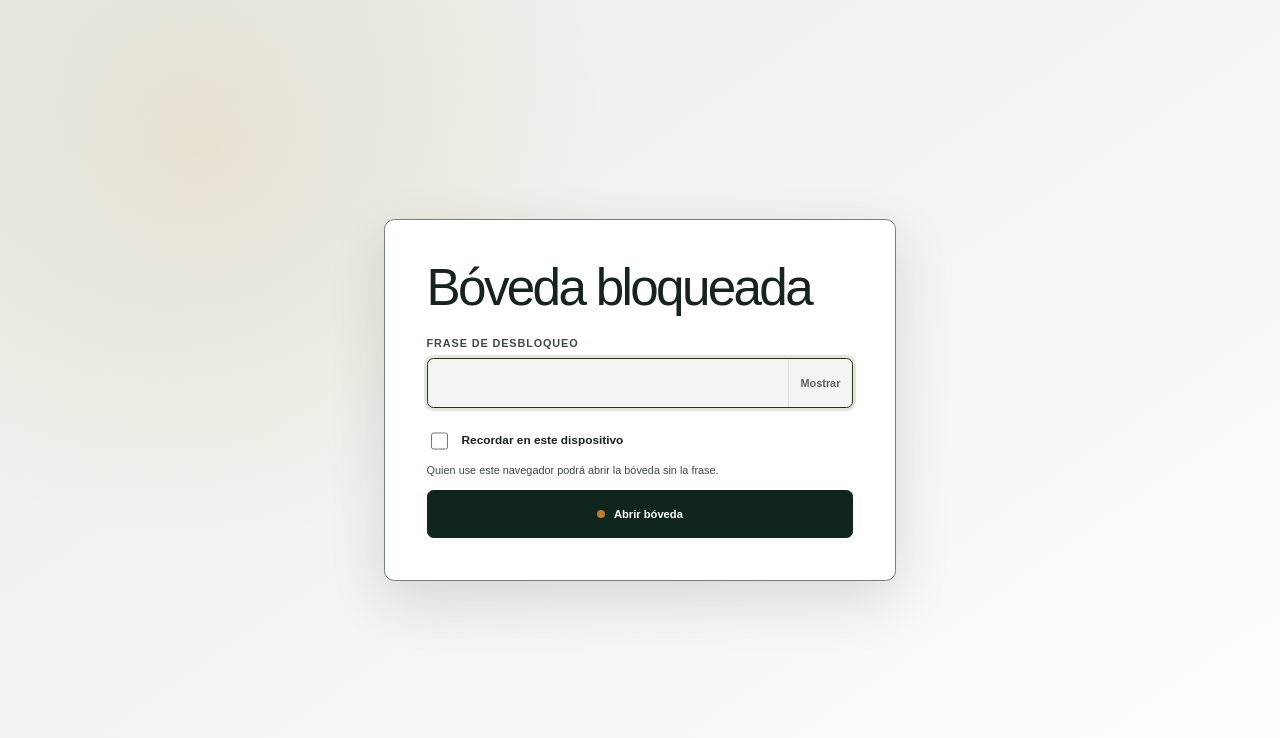
Test: App integration › uses the same error for a wrong phrase and allows a clean retry
Step 1. Type "this phrase is definitely wrong" into the password field labelled "Frase de desbloqueo" → point(608, 383), box [428,359,788,407]
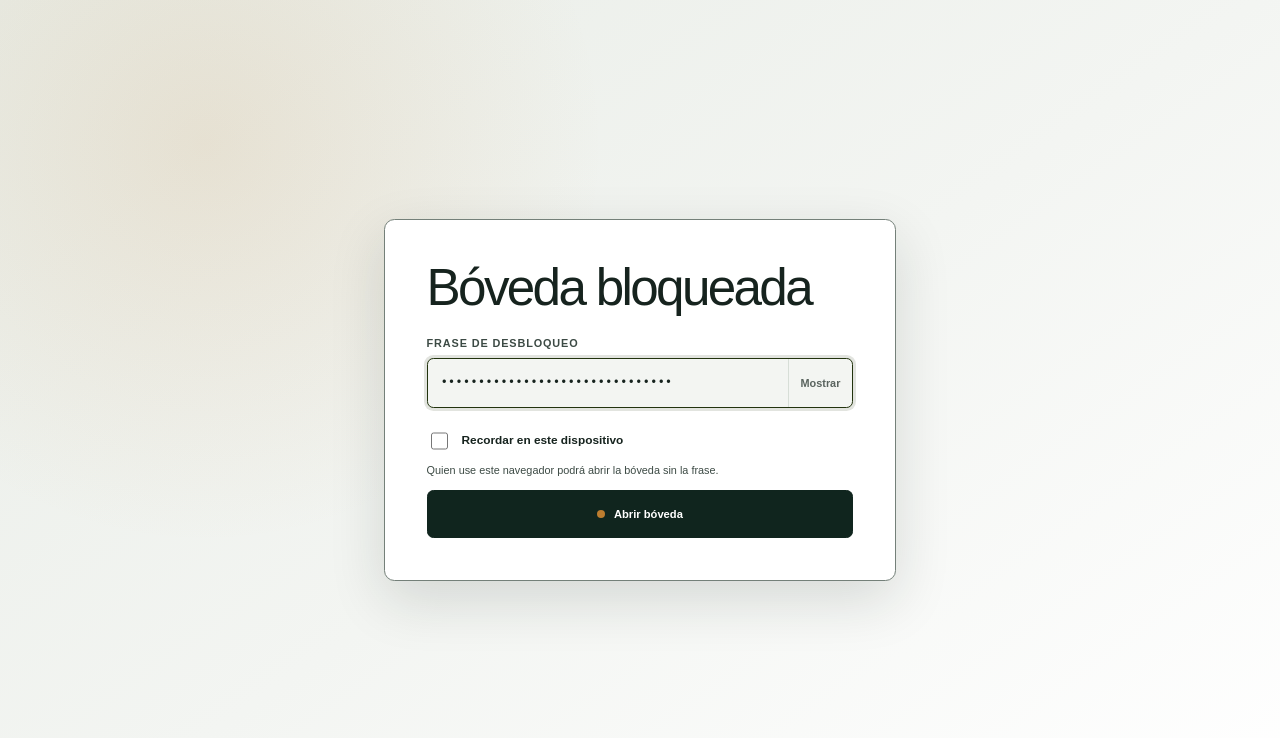
Step 2. Click the button "Abrir bóveda" → point(640, 514), box [427,490,853,538]
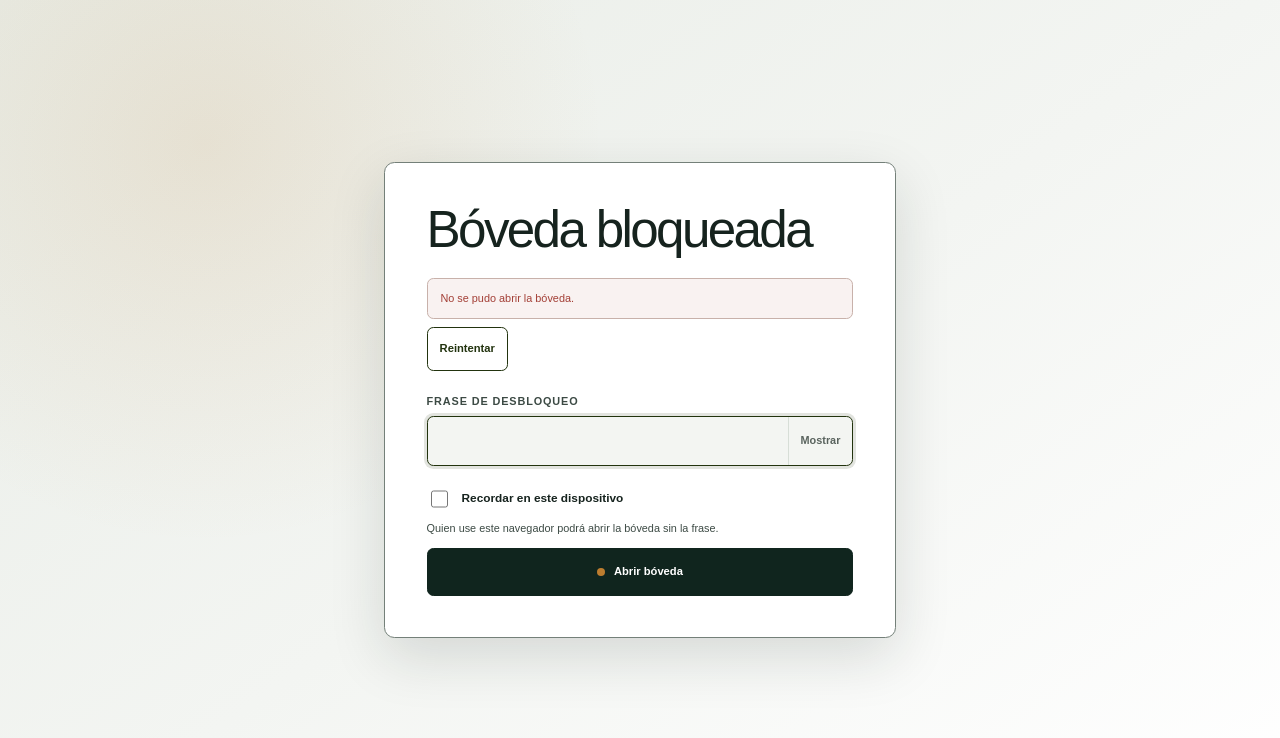
expect the heading "Bóveda bloqueada" is shown: met, box [427,204,853,255]
expect the message shows "No se pudo abrir la bóveda": met, box [440,292,574,304]
expect the password field labelled "Frase de desbloqueo" is empty: met
Step 3. Type "correct horse battery staple" into the password field labelled "Frase de desbloqueo" → point(608, 441), box [428,417,788,465]
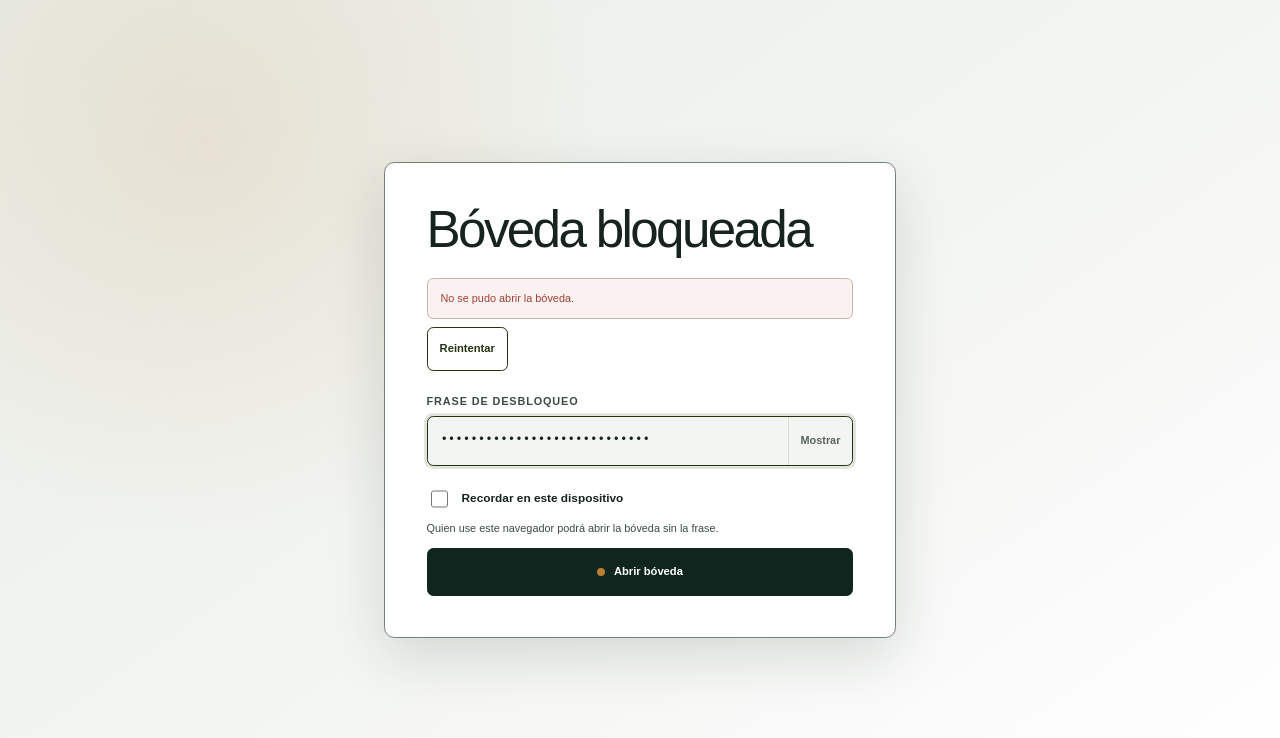
Step 4. Click the button "Abrir bóveda" → point(640, 572), box [427,548,853,596]
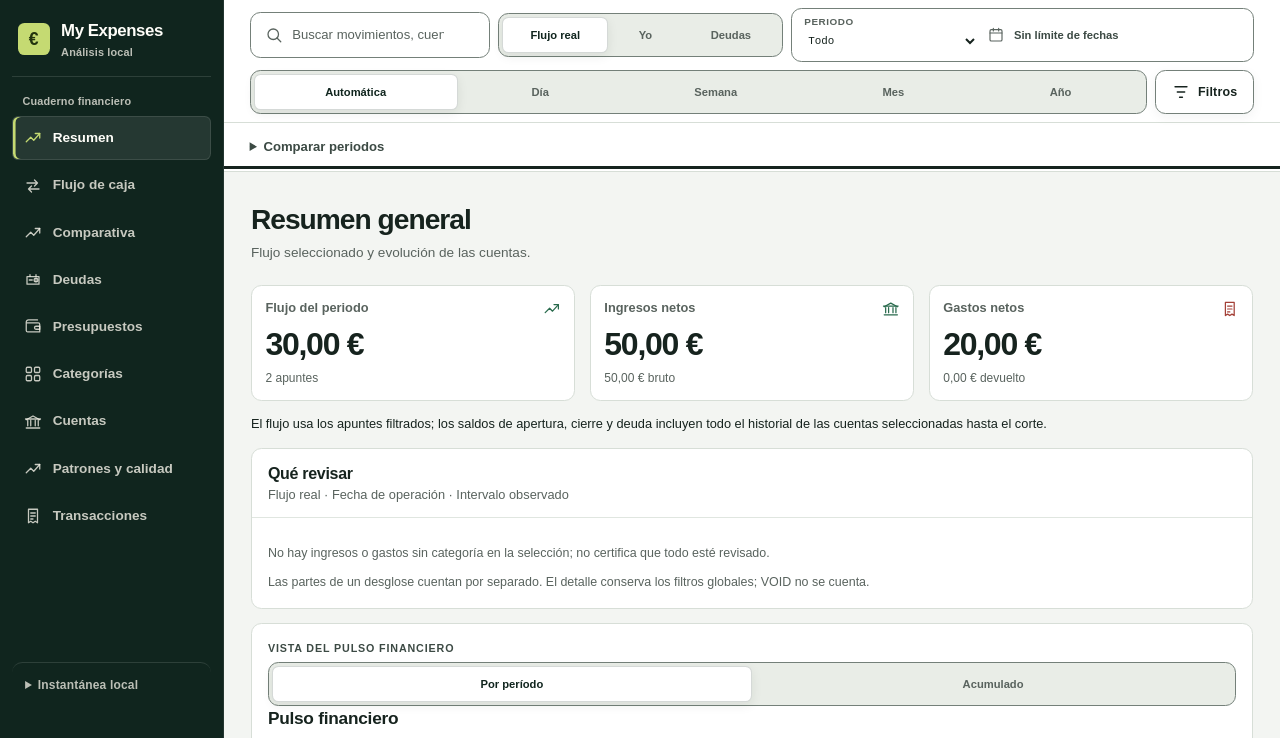
expect the heading "Resumen general" is shown: met, box [251,204,471,235]
